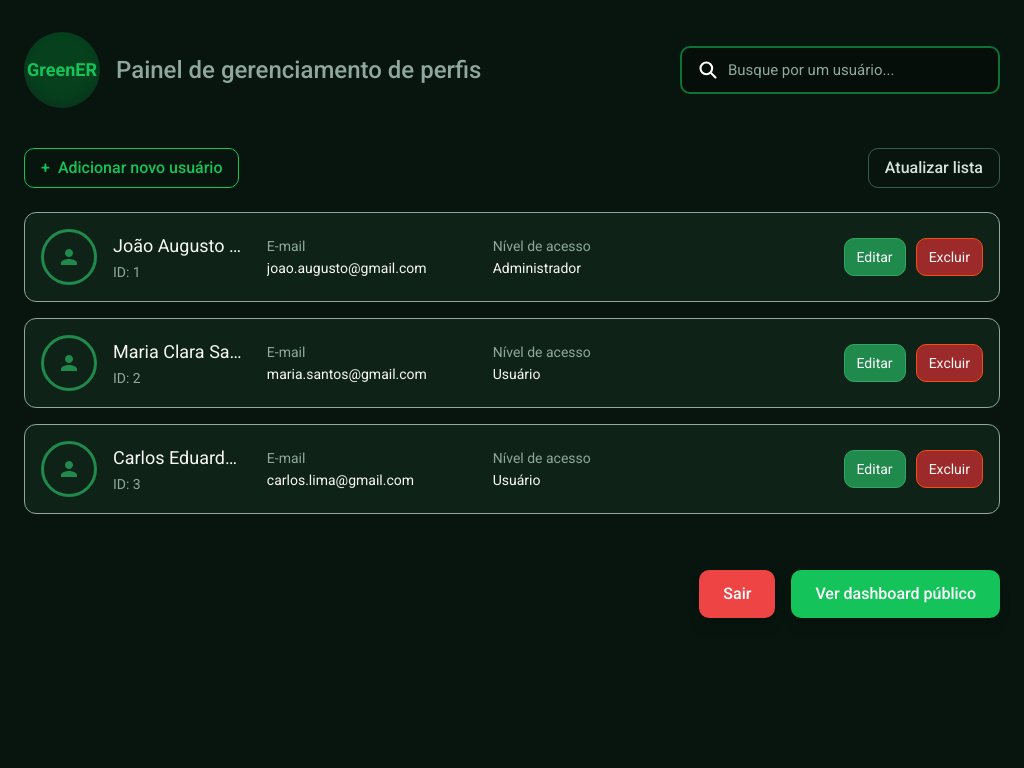
Test: painel administrativo integrado › permite excluir usuário com DELETE na API após confirmação
Click the button with aria-label "Excluir usuário João Augusto de Souza": (949, 257) x1=916 y1=238 x2=983 y2=276
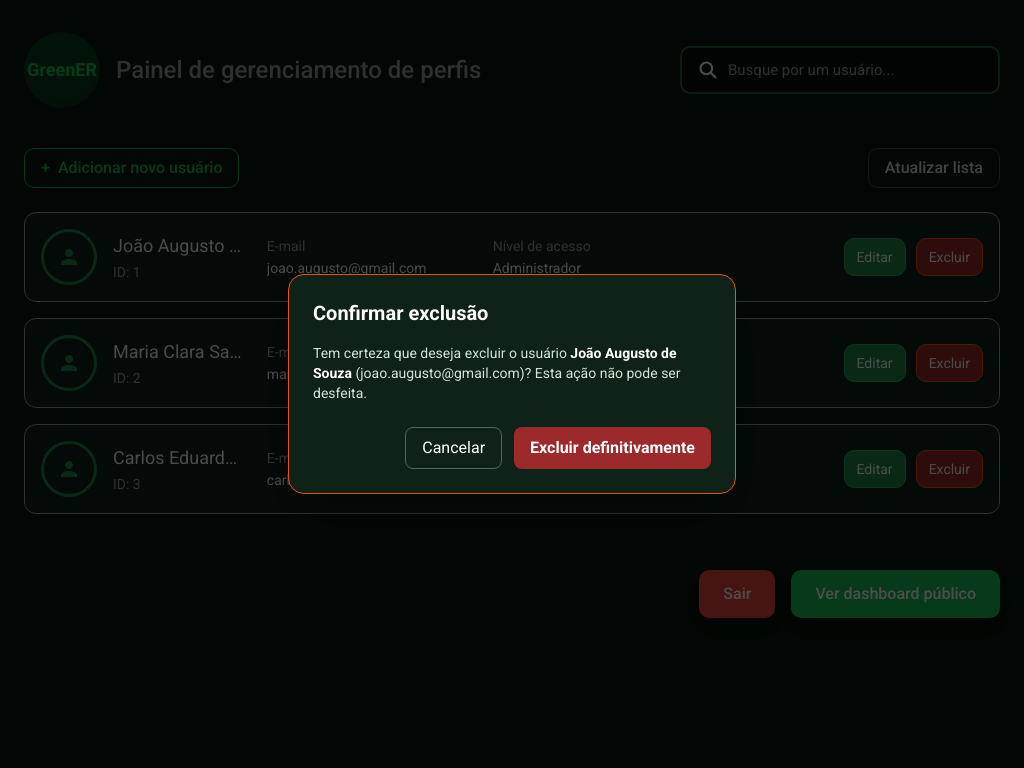
Expected: the dialog is shown
Expected: the text "Tem certeza que deseja excluir" is shown, x1=313 y1=345 x2=570 y2=361
Click the button "Excluir definitivamente": (613, 448) x1=514 y1=427 x2=711 y2=469
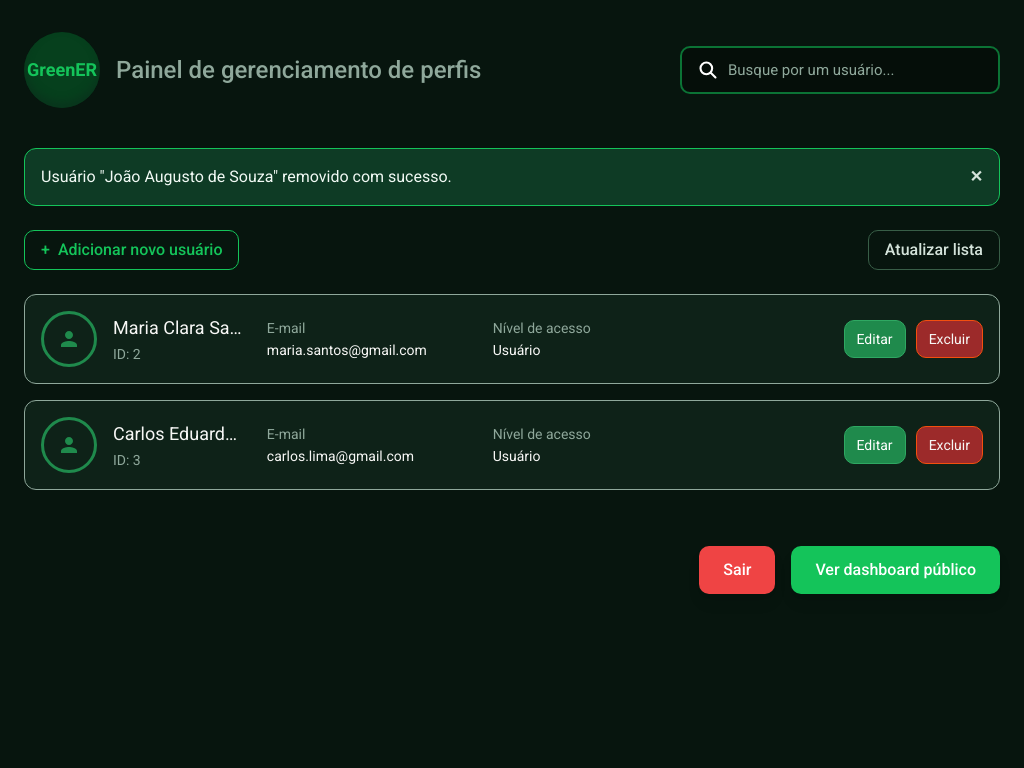
Expected: the message shows "removido com sucesso", x1=41 y1=167 x2=452 y2=186
